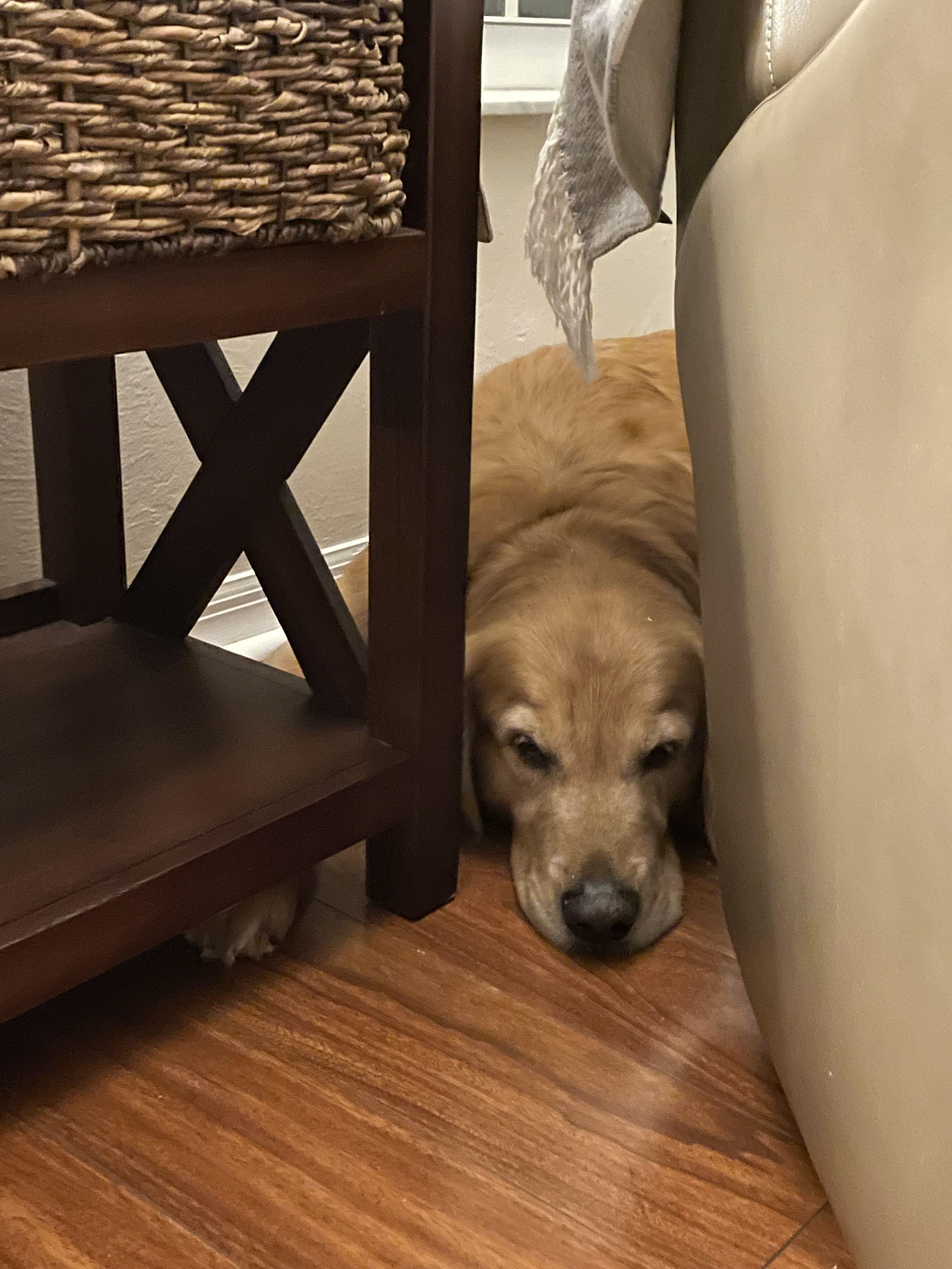adult_dog: (188, 328, 719, 967)
